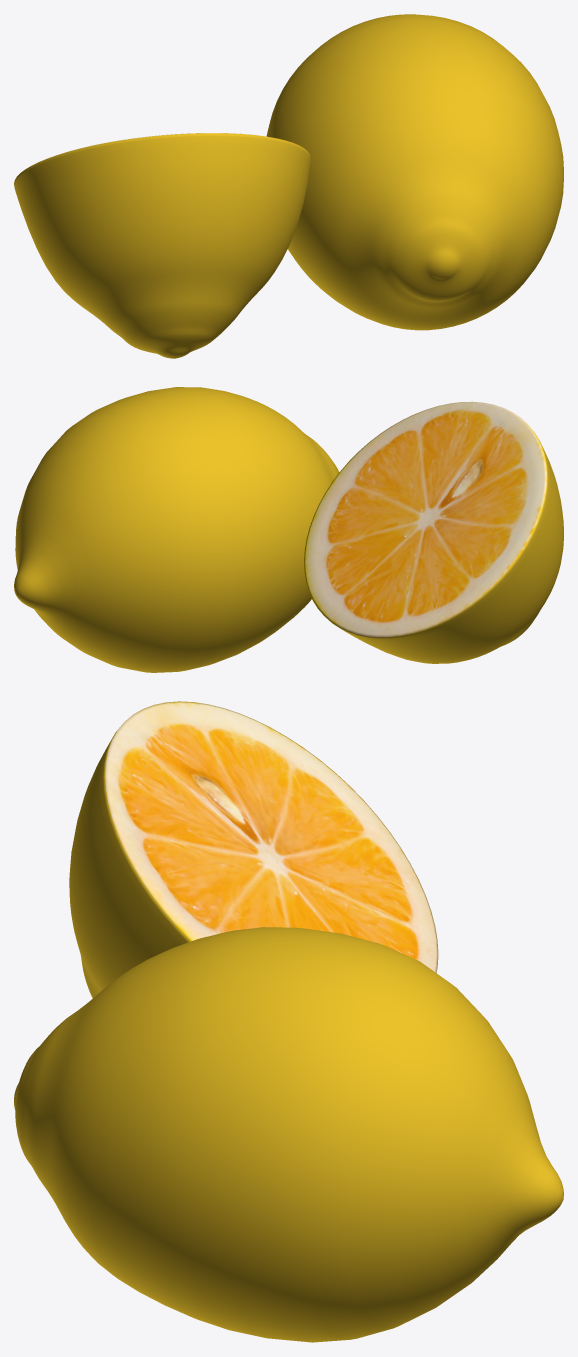
The model's file is lemons.glb.
The picture shows the model from 3 angles, top to bottom: view 1: azimuth 30°, elevation 25°; view 2: azimuth 150°, elevation 25°; view 3: azimuth 270°, elevation 25°; orthographic projection. The views are drawn at different scales.
Parts seen in each view (by area): view 1: Lemon_0, Lemon sliced_1; view 2: Lemon_0, Lemon sliced_1; view 3: Lemon_0, Lemon sliced_1.
Part boxes in pixels (x1,y1,x2,y2): Lemon_0: (266,14,563,330); Lemon sliced_1: (14,133,310,358); Lemon_0: (14,387,339,672); Lemon sliced_1: (304,401,563,663); Lemon_0: (14,927,563,1342); Lemon sliced_1: (69,701,438,998).
Bounding box in the file's own units: 3.65 × 1.93 × 2.42.
3 materials, 1 textured.
